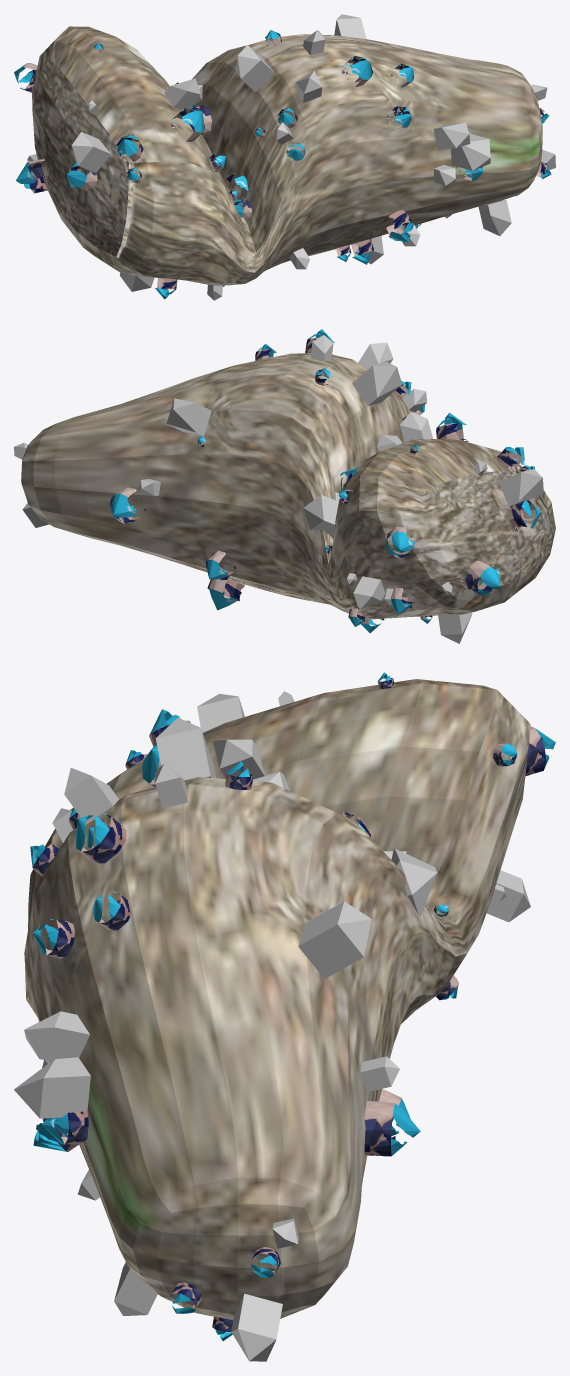
Rendered from iron1.obj.
3 views of the same model, one above another, from view 1: azimuth 30°, elevation 25°; view 2: azimuth 150°, elevation 25°; view 3: azimuth 270°, elevation 25° (orthographic). The views are drawn at different scales.
Parts seen in each view (by area): view 1: emitter_Cube, particle_Cube.001, p2_Cylinder; view 2: emitter_Cube, particle_Cube.001, p2_Cylinder; view 3: emitter_Cube, particle_Cube.001, p2_Cylinder.
Part boxes in pixels (left/top/right/bottom): emitter_Cube: left=32, top=26, right=542, bottom=285; particle_Cube.001: left=27, top=14, right=555, bottom=300; p2_Cylinder: left=14, top=30, right=551, bottom=299; emitter_Cube: left=21, top=353, right=555, bottom=619; particle_Cube.001: left=14, top=335, right=543, bottom=643; p2_Cylinder: left=110, top=329, right=541, bottom=632; emitter_Cube: left=24, top=679, right=530, bottom=1320; particle_Cube.001: left=14, top=691, right=530, bottom=1361; p2_Cylinder: left=30, top=672, right=555, bottom=1340.
Bounding box in the file's own units: 4.29 × 2.07 × 2.34.
